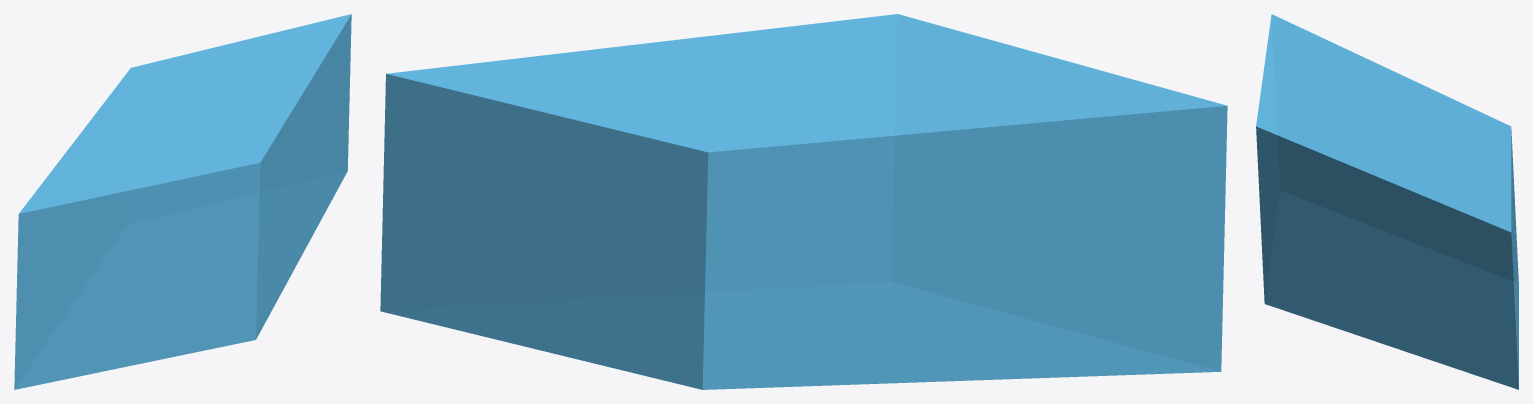
Rendered from Event_420094457_HBrechit_15.fbx.
3 renders of one model, left to right at view 1: azimuth 30°, elevation 25°; view 2: azimuth 150°, elevation 25°; view 3: azimuth 270°, elevation 25°, orthographic. The views are drawn at different scales.
Visible parts, largest first — view 1: Model; view 2: Model; view 3: Model.
Boxes of the visible parts, x1=… form: Model: x1=14, y1=14, x2=351, y2=389; Model: x1=380, y1=14, x2=1227, y2=389; Model: x1=1256, y1=14, x2=1518, y2=389.
Bounding box in the file's own units: 1.19 × 0.4527 × 0.6072.
